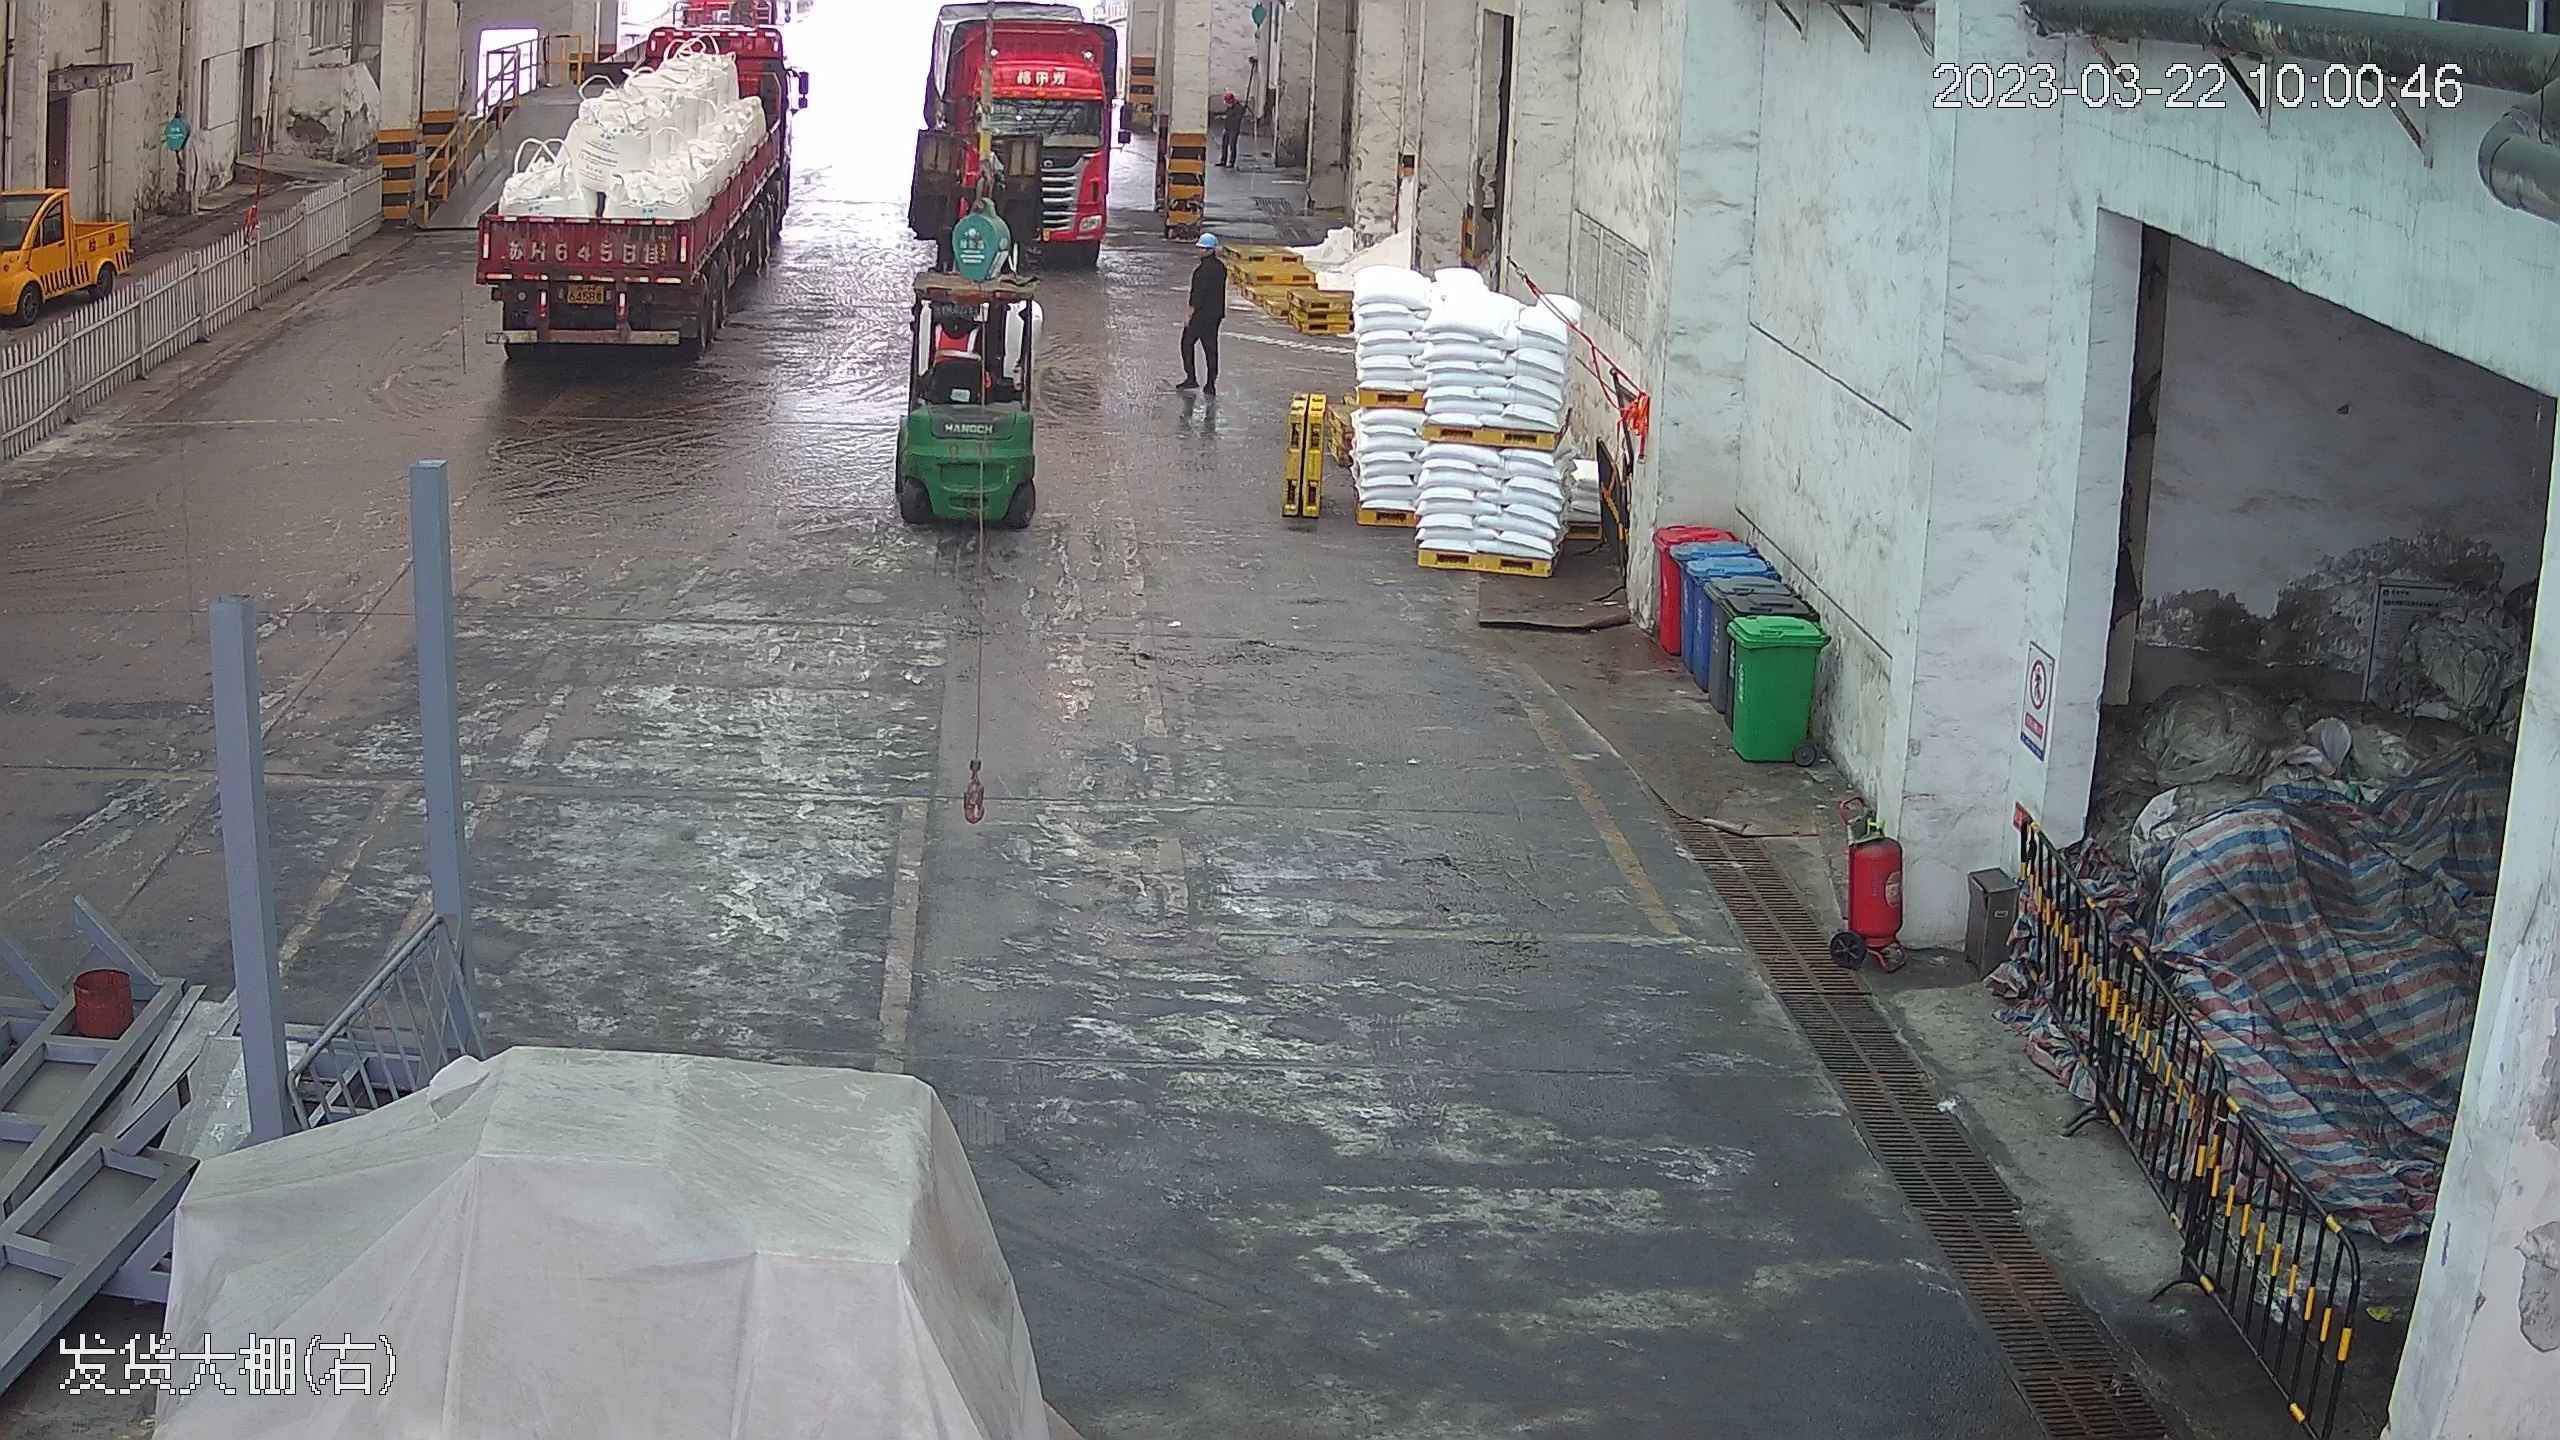head: (1187, 233, 1227, 287), (1223, 92, 1243, 119)
helmet: (1194, 233, 1220, 251), (1222, 90, 1235, 105)
people: (1178, 232, 1228, 421), (1217, 90, 1242, 170)
truck: (469, 6, 802, 348), (934, 9, 1137, 272)
